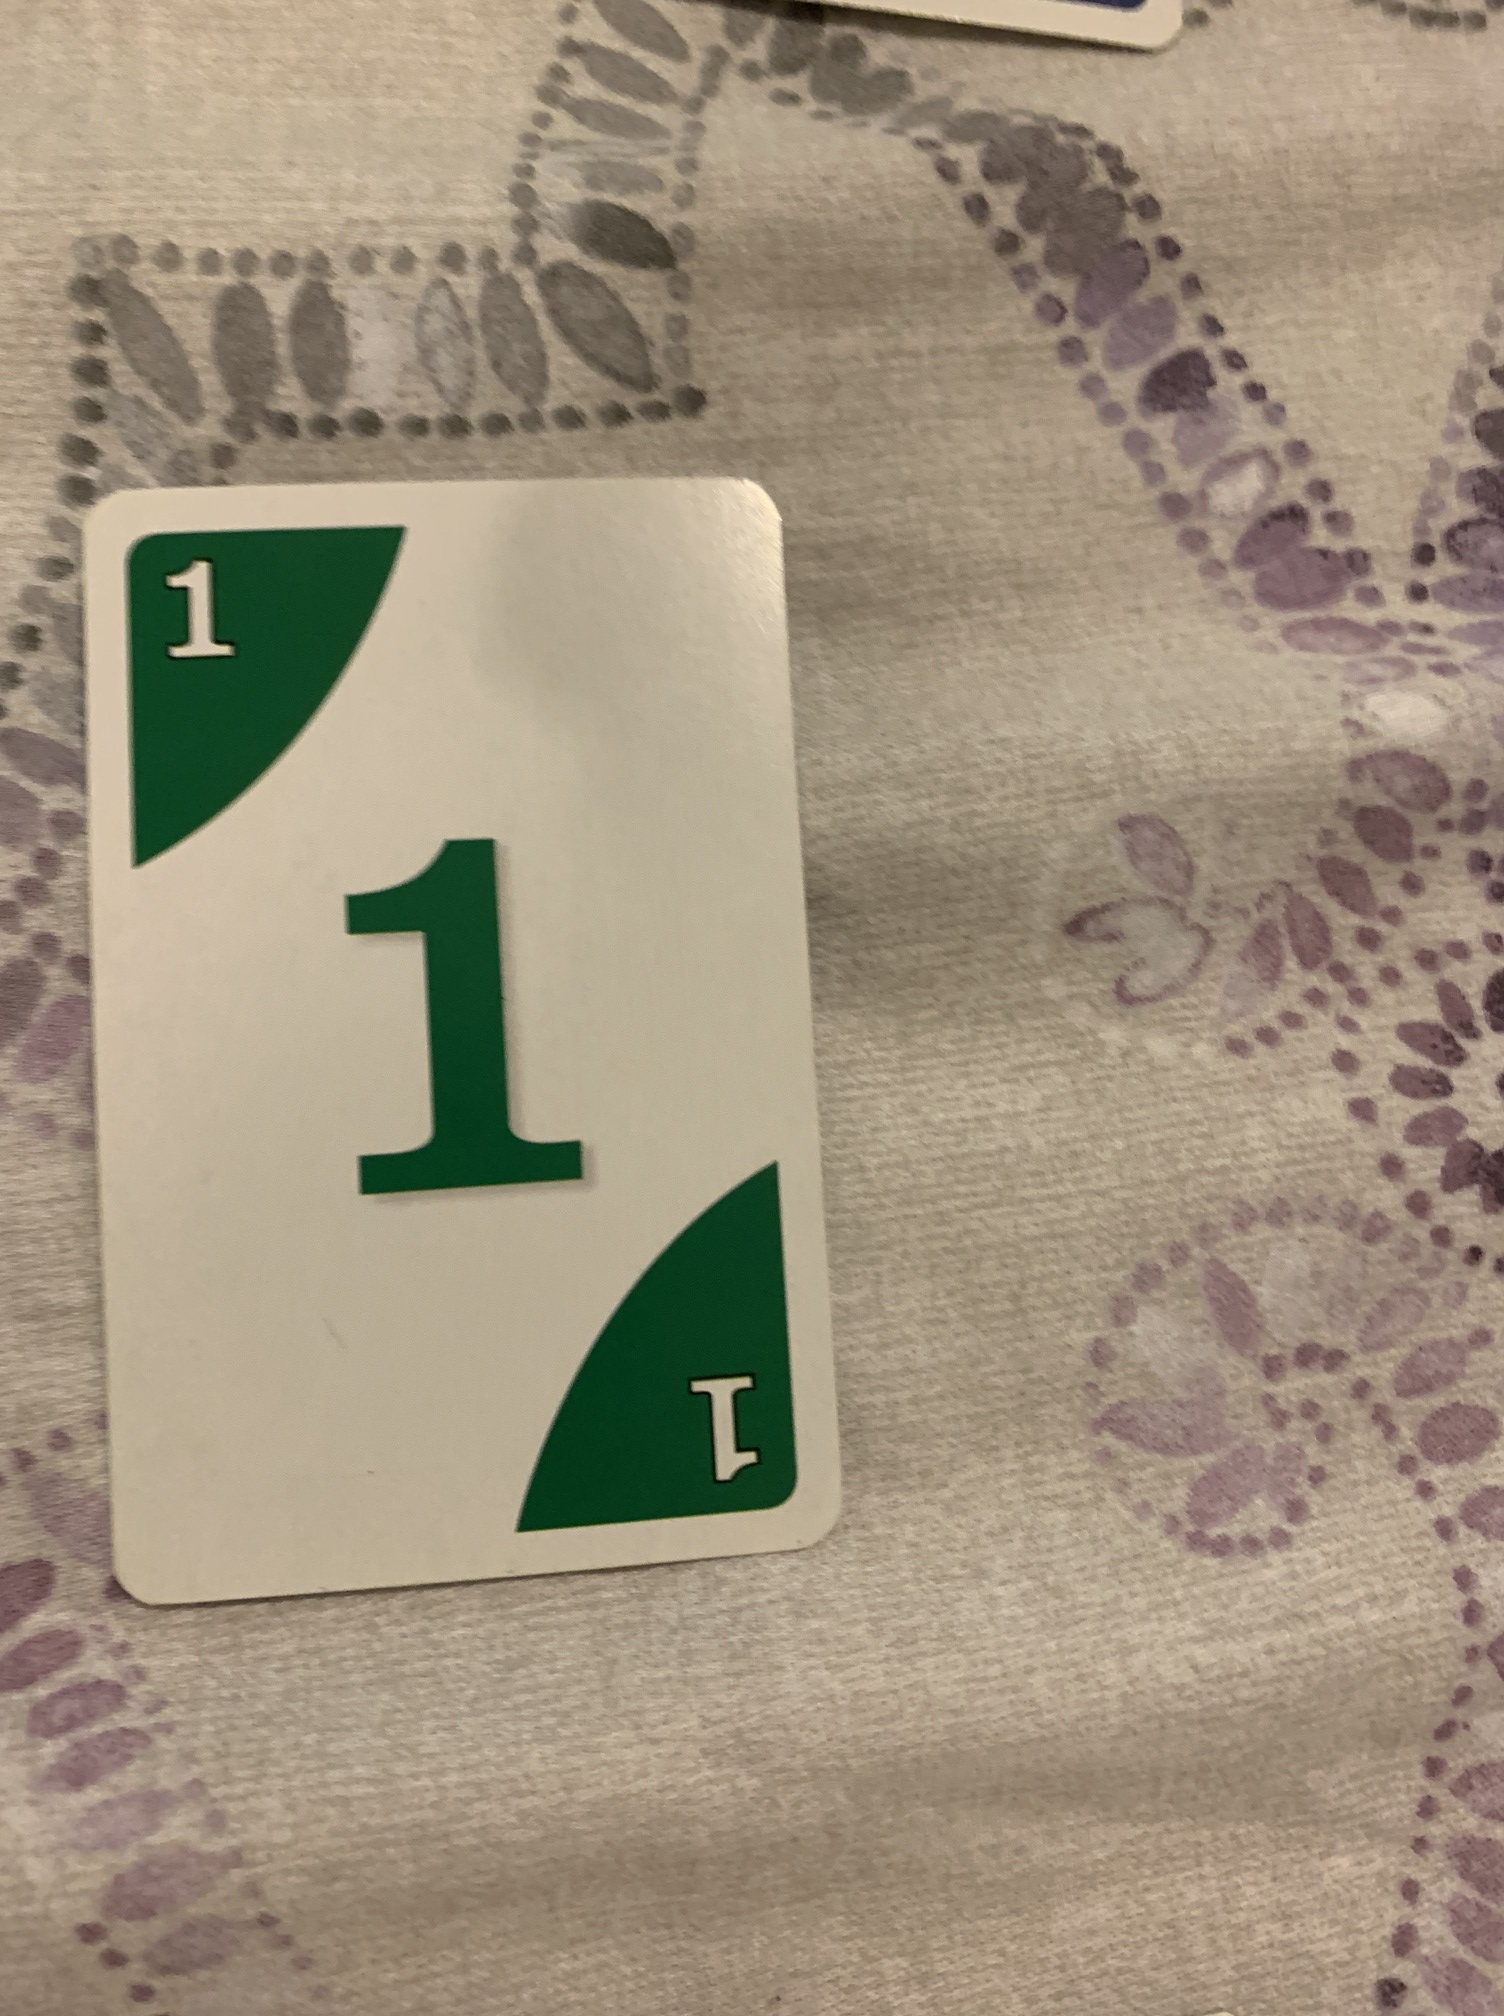one: (70, 465, 853, 1615)
